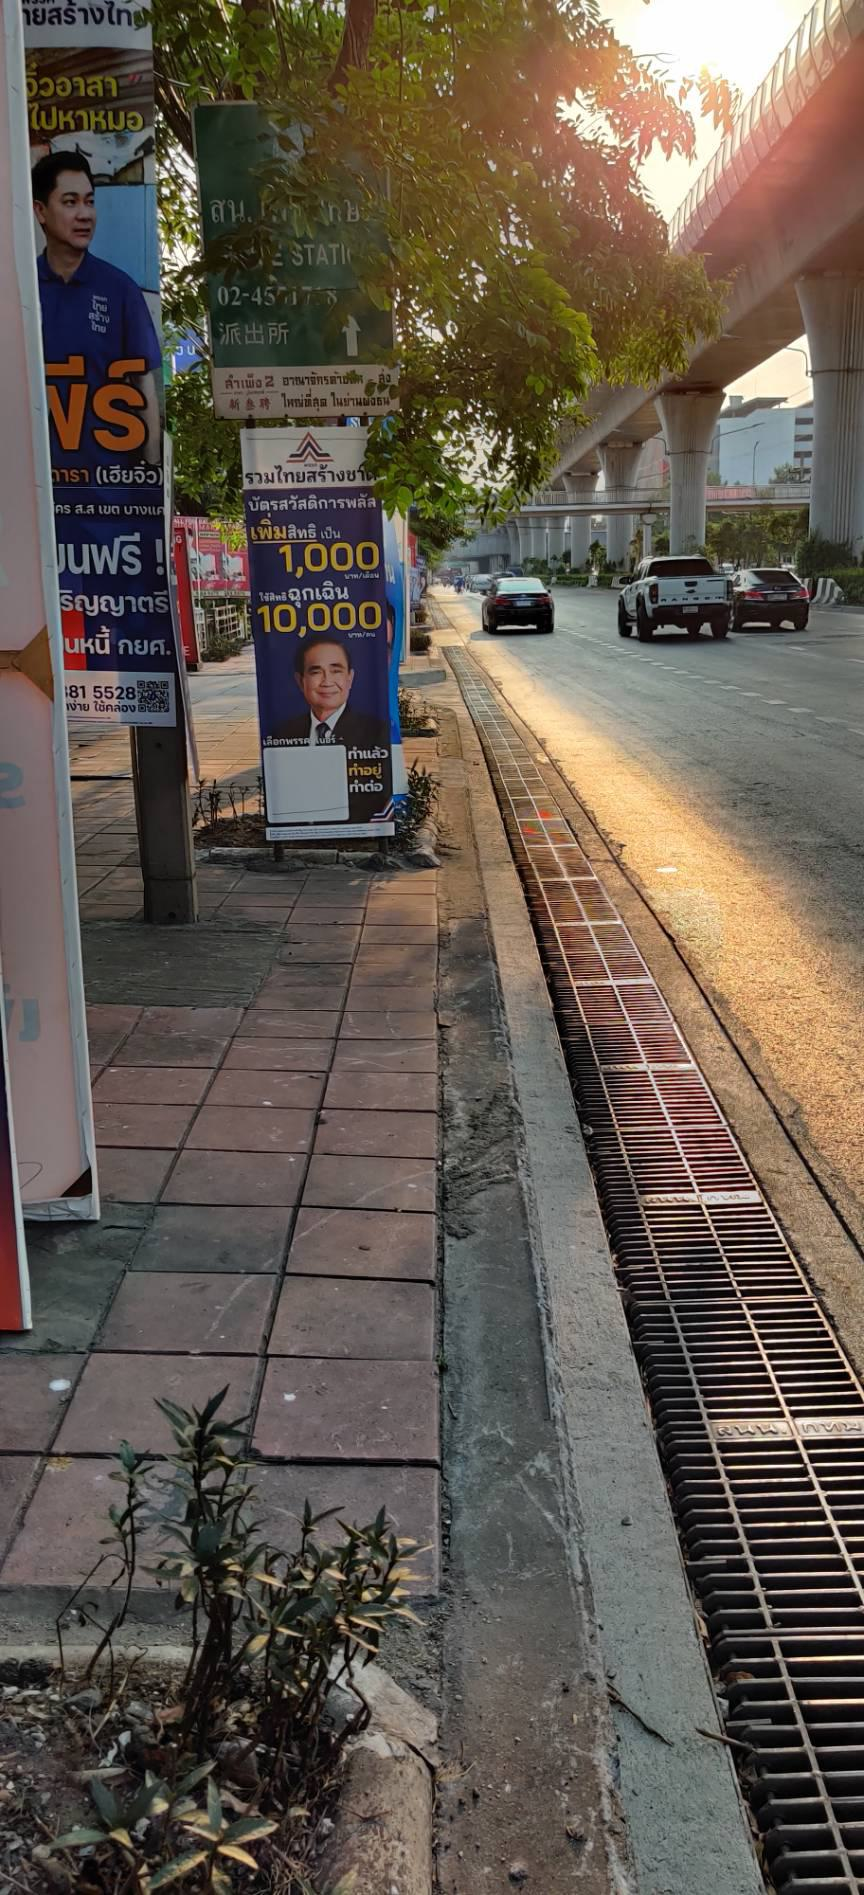Banner: (0, 0, 192, 741), (233, 415, 411, 851)
